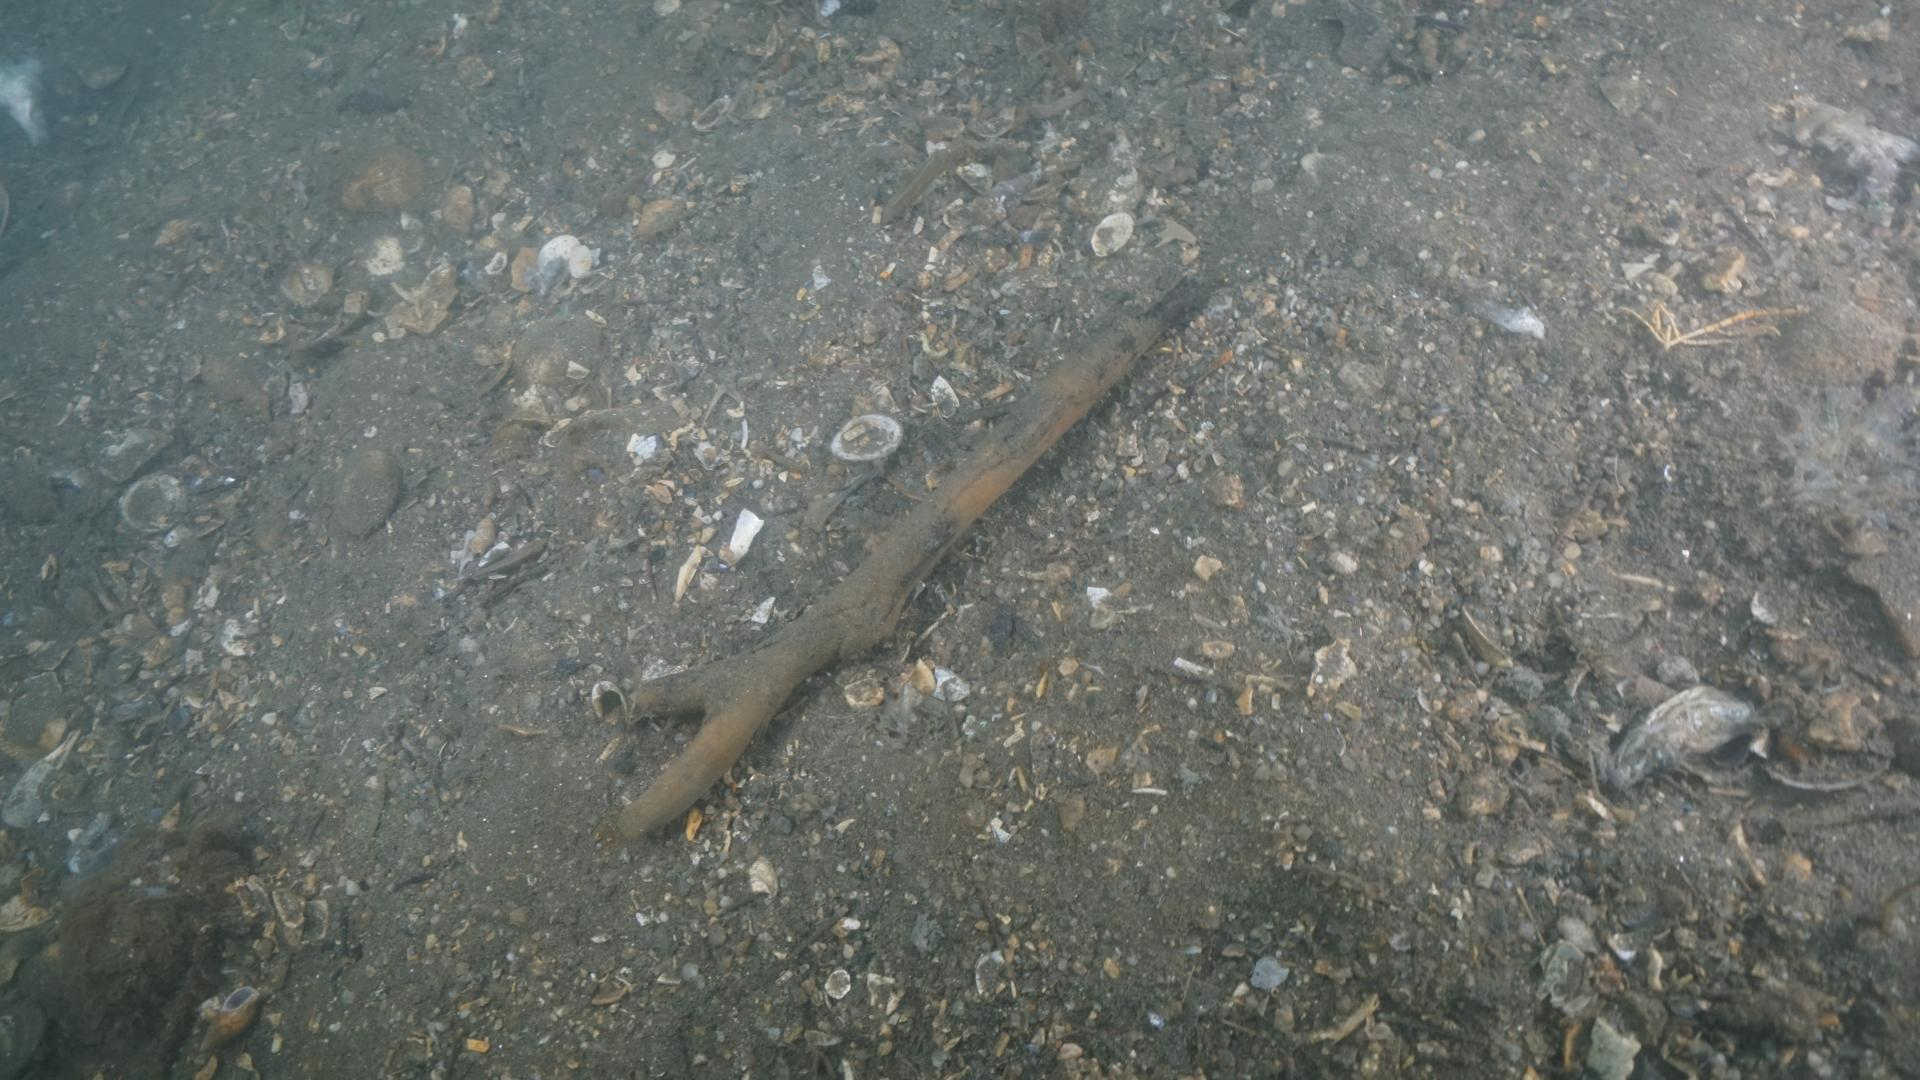wood: (616, 305, 1167, 840)
